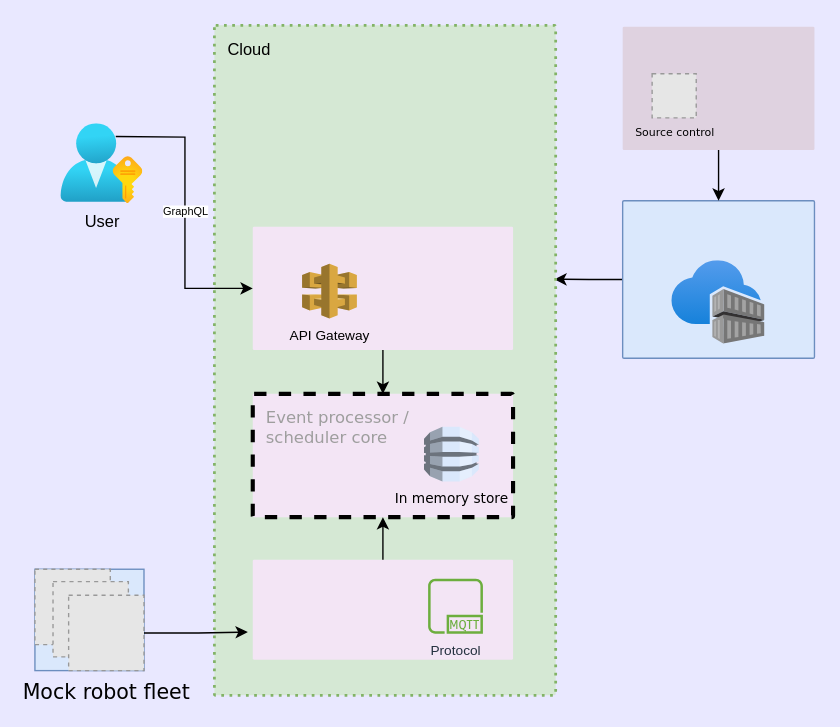
Image size: 840x727. Some labels were removed from this diagram. Grey dashed boxes stand in for pictures. Here are the shapes that lost their labels. From the top down, the box of each, then its label:
(622, 26, 814, 149): Build pipeline
(252, 226, 512, 349): Authentication
(621, 199, 814, 358): Manual build and deployment
(252, 559, 512, 659): Pub/Sub
